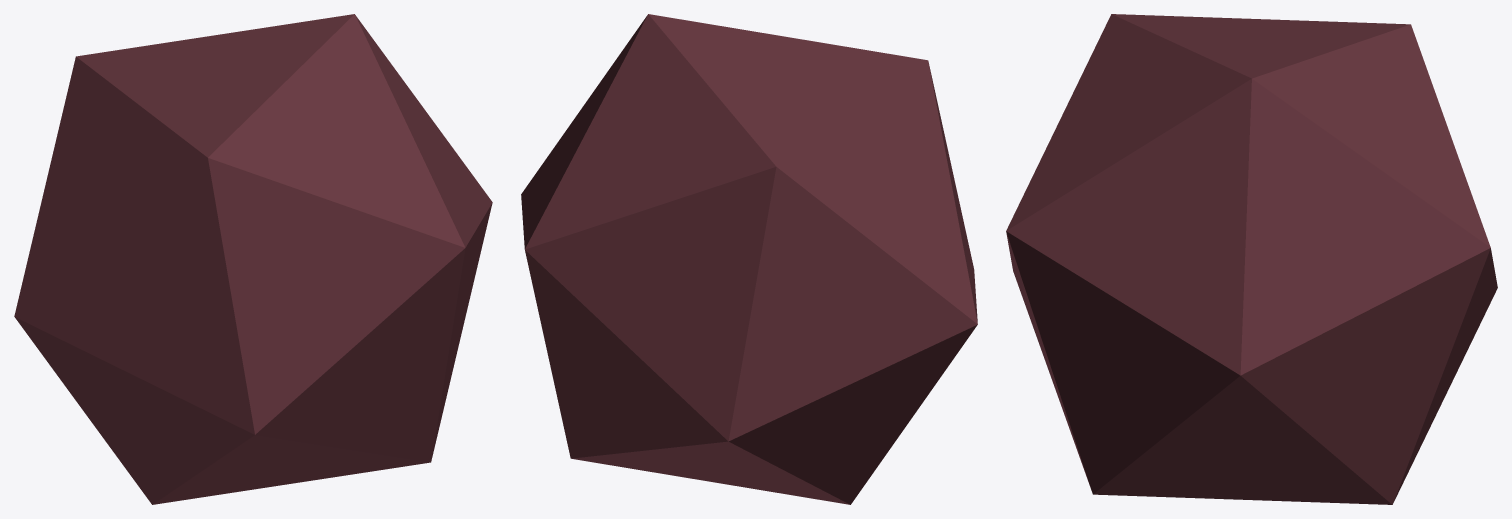
File: Rocky_Planet_single_asteroid.FBX
3 renders of one model, left to right at view 1: azimuth 30°, elevation 25°; view 2: azimuth 150°, elevation 25°; view 3: azimuth 270°, elevation 25°, orthographic. The views are drawn at different scales.
Parts seen in each view (by area): view 1: single; view 2: single; view 3: single.
Boxes of the visible parts, left/top/right/bottom form: single: left=14, top=14, right=492, bottom=504; single: left=521, top=14, right=977, bottom=504; single: left=1006, top=14, right=1497, bottom=504.
Bounding box in the file's own units: 12.77 × 11.52 × 11.02.
1 material, 1 textured.
